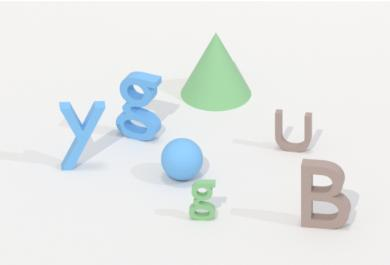0-TamGiac: (177, 28, 254, 114)
0-Tron: (160, 135, 202, 181)
B: (296, 152, 354, 235)
U: (270, 103, 317, 156)
g: (114, 67, 166, 145), (186, 176, 221, 224)
y: (54, 94, 107, 174)
